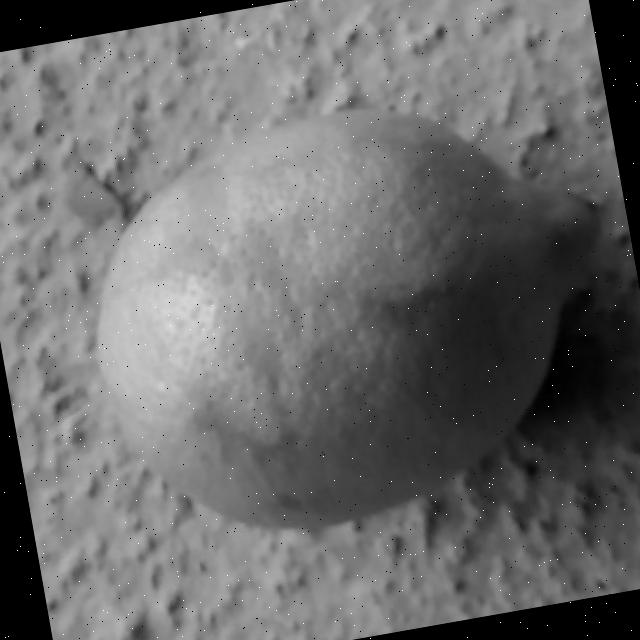overripe: (61, 61, 640, 568)
